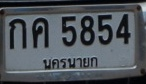txt01: (8, 18, 28, 50)
txt03: (31, 16, 50, 49)
